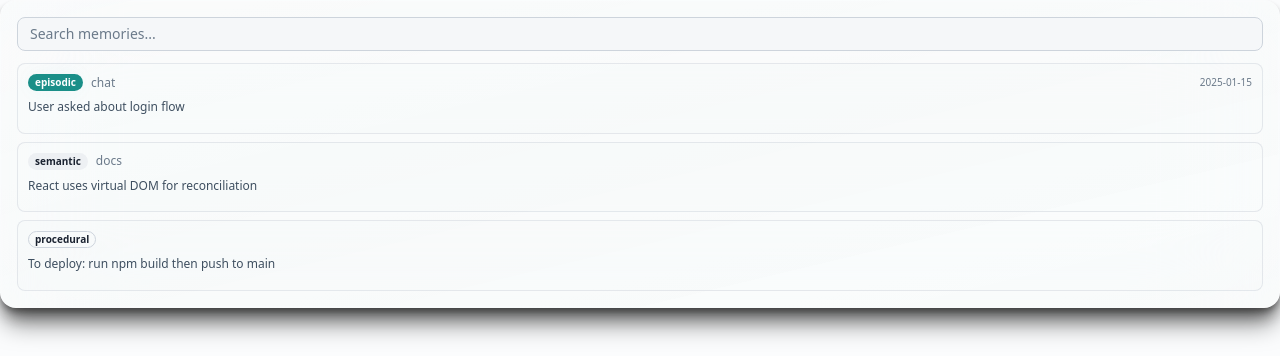
MemoryInspector › toggles expanded memory content semantics
The image size is (1280, 356).
Step 1. Click the button "User asked about login flow" → (106, 106), box top-left (28, 97), bottom-right (1252, 116)
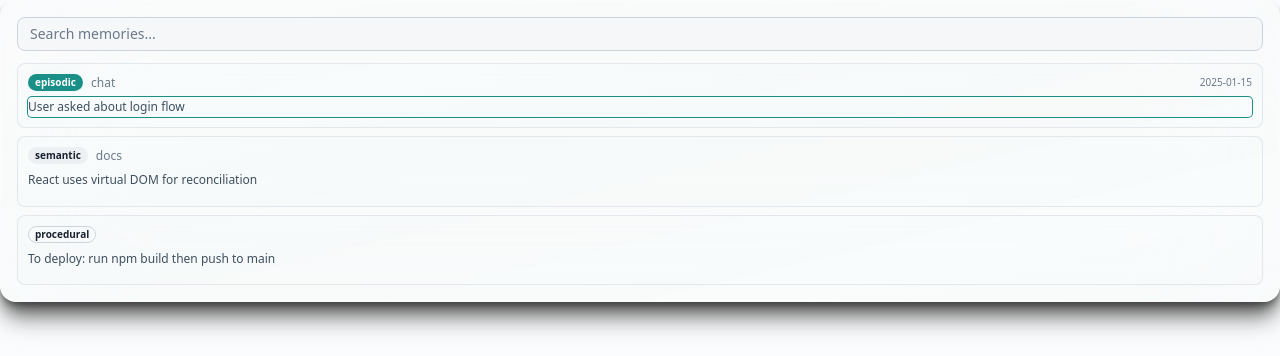
Expected: the button "User asked about login flow" is expanded, top-left (28, 97), bottom-right (1252, 116)
